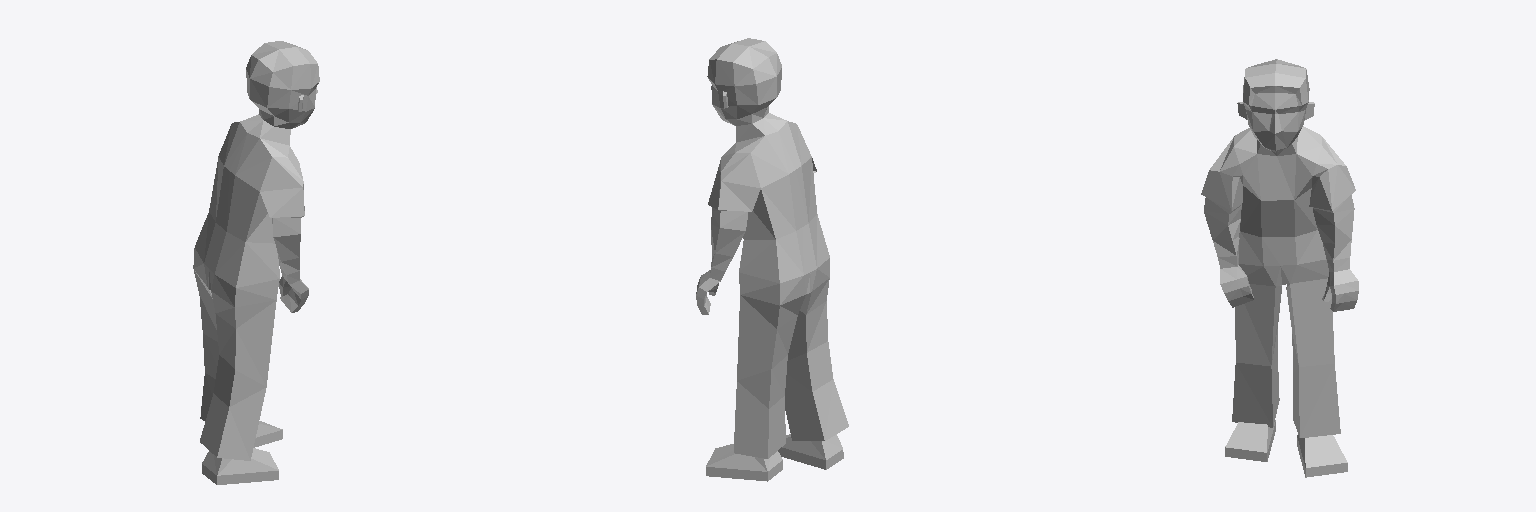
File: zombie_male_idle_0.obj
The picture shows the model from 3 angles: view 1: azimuth 30°, elevation 25°; view 2: azimuth 150°, elevation 25°; view 3: azimuth 270°, elevation 25°; orthographic projection.
Bounding box in the file's own units: 0.547 × 1.76 × 0.6229.